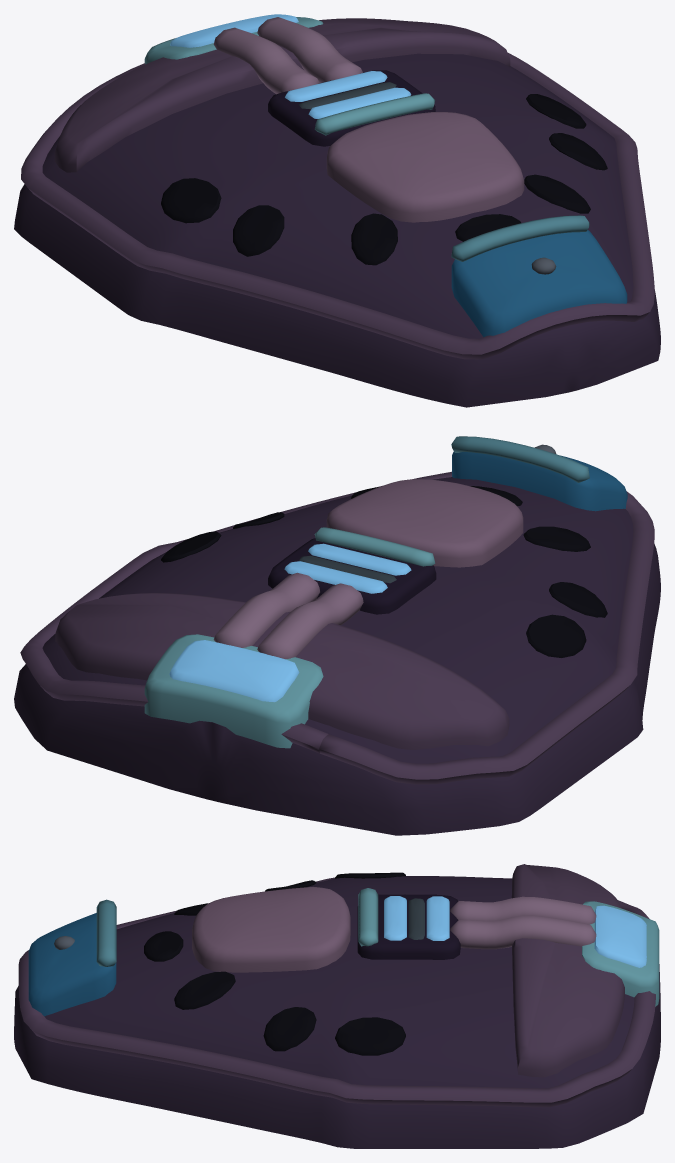
Rendered from purple_shield.glb.
3 renders of one model, top to bottom at view 1: azimuth 30°, elevation 25°; view 2: azimuth 150°, elevation 25°; view 3: azimuth 270°, elevation 25°, orthographic. The views are drawn at different scales.
Parts seen in each view (by area): view 1: hull, border, brow, chin, block, rib-1, rib1, trim, window_frame, port0, sill, port1 (+10 smaller); view 2: hull, brow, border, chin, visor_frame, block, visor_glass, rib-1, rib1, window_frame, trim, port0 (+7 smaller); view 3: hull, brow, border, chin, block, rib1, window_frame, rib-1, visor_frame, visor_glass, port3, port4 (+7 smaller).
Part boxes in pixels (box(x1,y1,x2,y2)): hull: box(14, 53, 660, 407); border: box(21, 53, 654, 359); brow: box(54, 18, 510, 172); chin: box(326, 112, 524, 222); block: box(451, 230, 627, 337); rib-1: box(213, 27, 319, 94); rib1: box(257, 17, 362, 82); trim: box(451, 215, 589, 261); window_frame: box(268, 70, 435, 146); port0: box(161, 178, 221, 223); sill: box(314, 93, 435, 135); port1: box(233, 205, 284, 256); hull: box(14, 477, 660, 835); brow: box(55, 593, 509, 749); border: box(20, 471, 654, 784); chin: box(326, 479, 523, 567); visor_frame: box(144, 634, 323, 748); block: box(452, 451, 627, 511); visor_glass: box(169, 640, 299, 702); rib-1: box(257, 583, 363, 659); rib1: box(213, 572, 319, 647); window_frame: box(268, 538, 436, 614); trim: box(451, 436, 589, 482); port0: box(526, 614, 586, 657); hull: box(14, 876, 660, 1148); brow: box(511, 864, 624, 1077); border: box(18, 877, 655, 1107); chin: box(192, 886, 350, 972); block: box(28, 913, 116, 1016); rib1: box(450, 915, 596, 949); window_frame: box(357, 894, 460, 959); rib-1: box(450, 896, 596, 924); visor_frame: box(582, 901, 659, 1006); visor_glass: box(594, 905, 646, 967); port3: box(335, 1017, 405, 1055); port4: box(263, 1007, 316, 1051).
Bounding box in the file's own units: 22.34 × 6.01 × 27.34.
